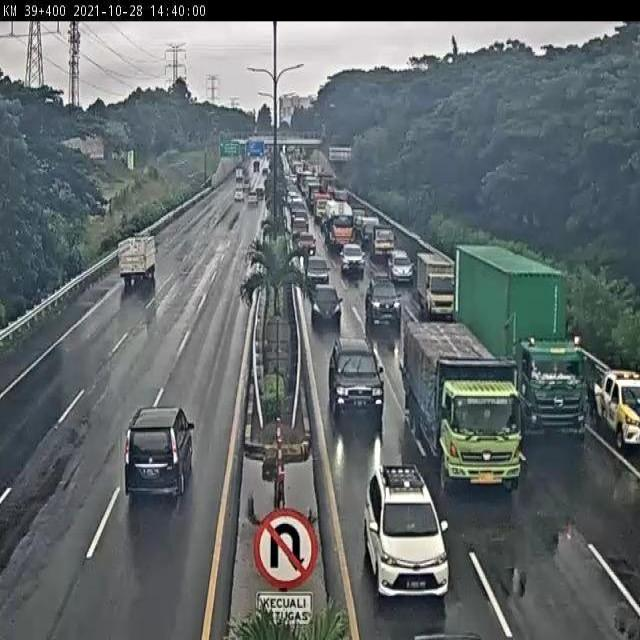big truck: (452, 243, 577, 427), (404, 321, 522, 484)
car: (365, 467, 452, 596), (122, 408, 196, 497), (330, 340, 385, 417), (591, 369, 640, 448), (366, 279, 402, 325), (311, 278, 341, 318), (387, 248, 412, 281), (369, 224, 394, 256), (338, 239, 364, 269), (304, 253, 330, 283), (295, 231, 317, 257)
mid truck: (117, 237, 156, 288)
small truck: (414, 251, 457, 316)
